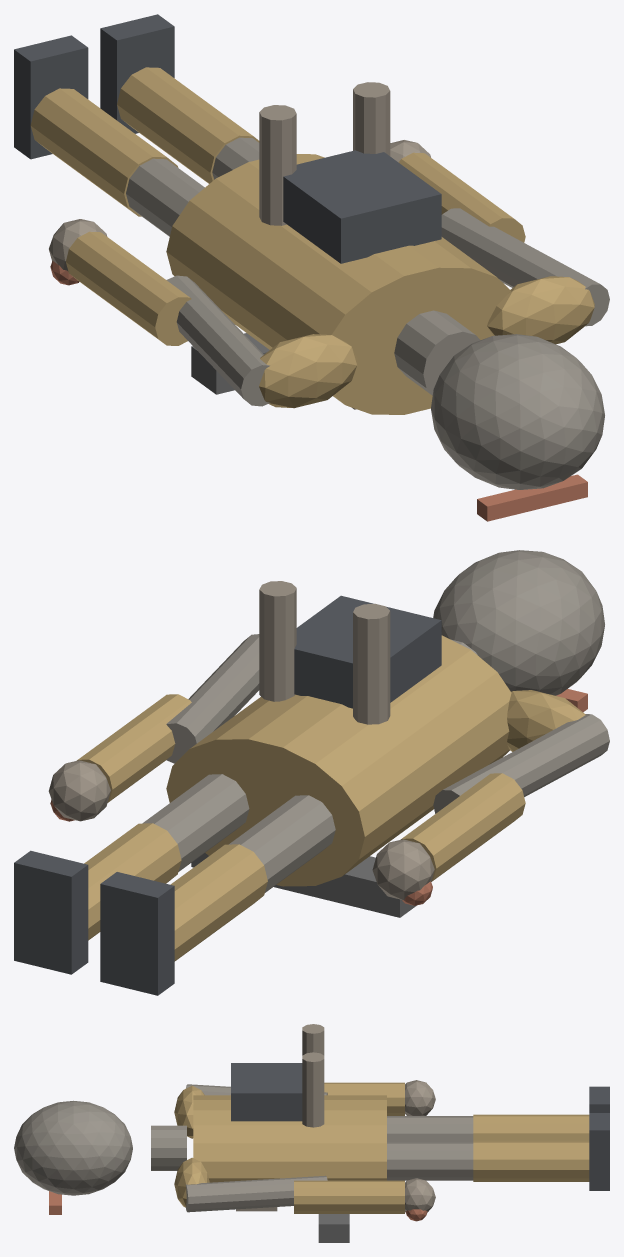
File: SWN-017_grom_fenwick.glb
3 renders of one model, top to bottom at view 1: azimuth 30°, elevation 25°; view 2: azimuth 150°, elevation 25°; view 3: azimuth 270°, elevation 25°, orthographic. The views are drawn at different scales.
Visible parts, largest first — view 1: body_spine, head, back_thruster_pack, greave_-1, greave_1, forearm_gauntlet_-1, shoulder_plate_-1, upper_arm_1, upper_arm_-1, boot_-1, shoulder_plate_1, boot_1 (+9 smaller); view 2: body_spine, head, back_thruster_pack, boot_-1, boot_1, greave_-1, forearm_gauntlet_-1, upper_arm_-1, thigh_1, thigh_-1, upper_arm_1, forearm_gauntlet_1 (+7 smaller); view 3: body_spine, head, greave_1, back_thruster_pack, forearm_gauntlet_1, thigh_1, upper_arm_1, greave_-1, thigh_-1, aether_thruster_1, boot_1, neck (+9 smaller).
Boxes of the visible parts, left/top/right/bottom form: body_spine: left=166, top=154, right=511, bottom=414; head: left=431, top=334, right=604, bottom=489; back_thruster_pack: left=283, top=150, right=441, bottom=263; greave_-1: left=30, top=88, right=178, bottom=216; greave_1: left=117, top=67, right=259, bottom=183; forearm_gauntlet_-1: left=66, top=231, right=191, bottom=345; shoulder_plate_-1: left=259, top=334, right=357, bottom=408; upper_arm_1: left=441, top=208, right=609, bottom=326; upper_arm_-1: left=166, top=275, right=269, bottom=406; boot_-1: left=14, top=35, right=88, bottom=159; shoulder_plate_1: left=487, top=276, right=594, bottom=344; boot_1: left=100, top=14, right=174, bottom=133; body_spine: left=166, top=635, right=511, bottom=886; head: left=433, top=550, right=604, bottom=695; back_thruster_pack: left=294, top=595, right=441, bottom=708; boot_-1: left=100, top=872, right=174, bottom=995; boot_1: left=14, top=850, right=88, bottom=974; greave_-1: left=170, top=844, right=267, bottom=961; forearm_gauntlet_-1: left=400, top=773, right=525, bottom=881; upper_arm_-1: left=433, top=714, right=609, bottom=813; thigh_1: left=142, top=774, right=249, bottom=871; thigh_-1: left=229, top=795, right=335, bottom=892; upper_arm_1: left=166, top=634, right=259, bottom=763; forearm_gauntlet_1: left=76, top=694, right=191, bottom=802; body_spine: left=193, top=1095, right=386, bottom=1182; head: left=14, top=1100, right=132, bottom=1195; greave_1: left=473, top=1140, right=589, bottom=1181; back_thruster_pack: left=231, top=1063, right=302, bottom=1121; forearm_gauntlet_1: left=294, top=1180, right=404, bottom=1213; thigh_1: left=387, top=1142, right=473, bottom=1180; upper_arm_1: left=185, top=1175, right=327, bottom=1212; greave_-1: left=473, top=1114, right=589, bottom=1140; thigh_-1: left=387, top=1116, right=473, bottom=1141; aether_thruster_1: left=302, top=1052, right=324, bottom=1127; boot_1: left=589, top=1113, right=609, bottom=1190; neck: left=151, top=1125, right=186, bottom=1170.
Size of the model in its own units: 1.05 by 0.72 by 2.31.
